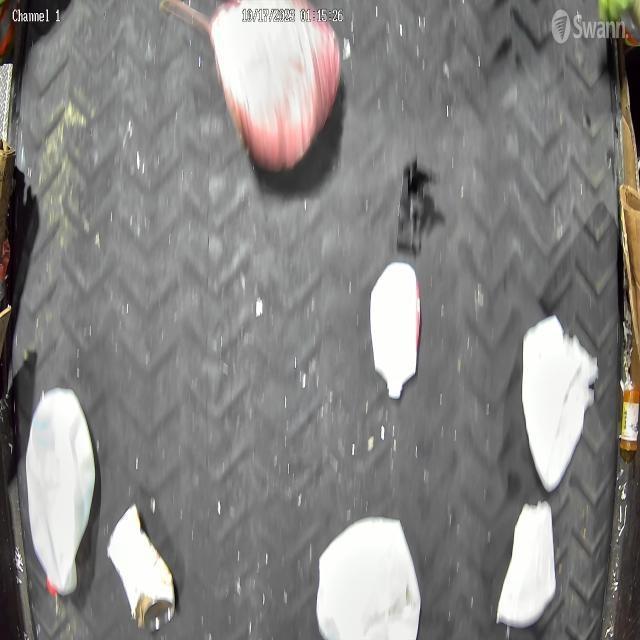milk_jug: (27, 385, 92, 595), (317, 514, 420, 640), (522, 314, 593, 490)
